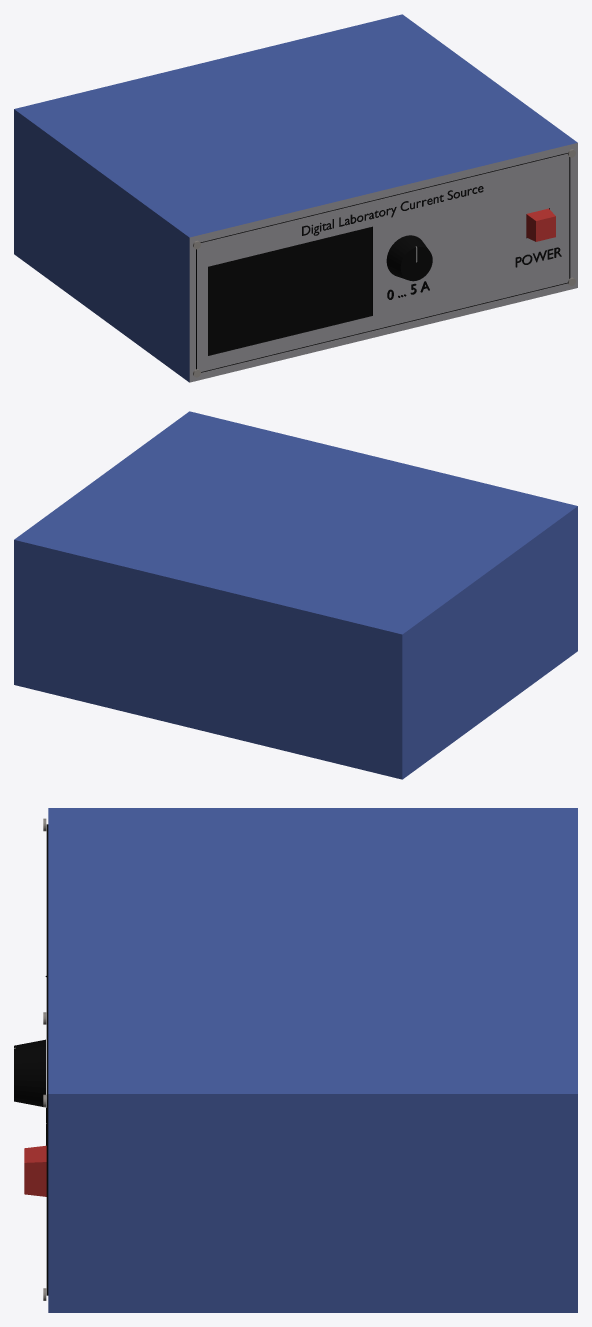
Rendered from currentSource.glb.
The picture shows the model from 3 angles, top to bottom: view 1: azimuth 30°, elevation 25°; view 2: azimuth 150°, elevation 25°; view 3: azimuth 270°, elevation 25°; orthographic projection. The views are drawn at different scales.
Parts seen in each view (by area): view 1: stand.017, contrast, power; view 2: stand.017; view 3: stand.017, contrast, power.
Boxes of the visible parts, box(x1,y1,x2,y2) form: stand.017: box(14, 14, 577, 382); contrast: box(386, 235, 432, 281); power: box(526, 208, 555, 241); stand.017: box(14, 411, 577, 779); stand.017: box(43, 808, 577, 1312); contrast: box(14, 1039, 45, 1106); power: box(24, 1145, 46, 1196).
Bounding box in the file's own units: 191 × 68.22 × 159.
